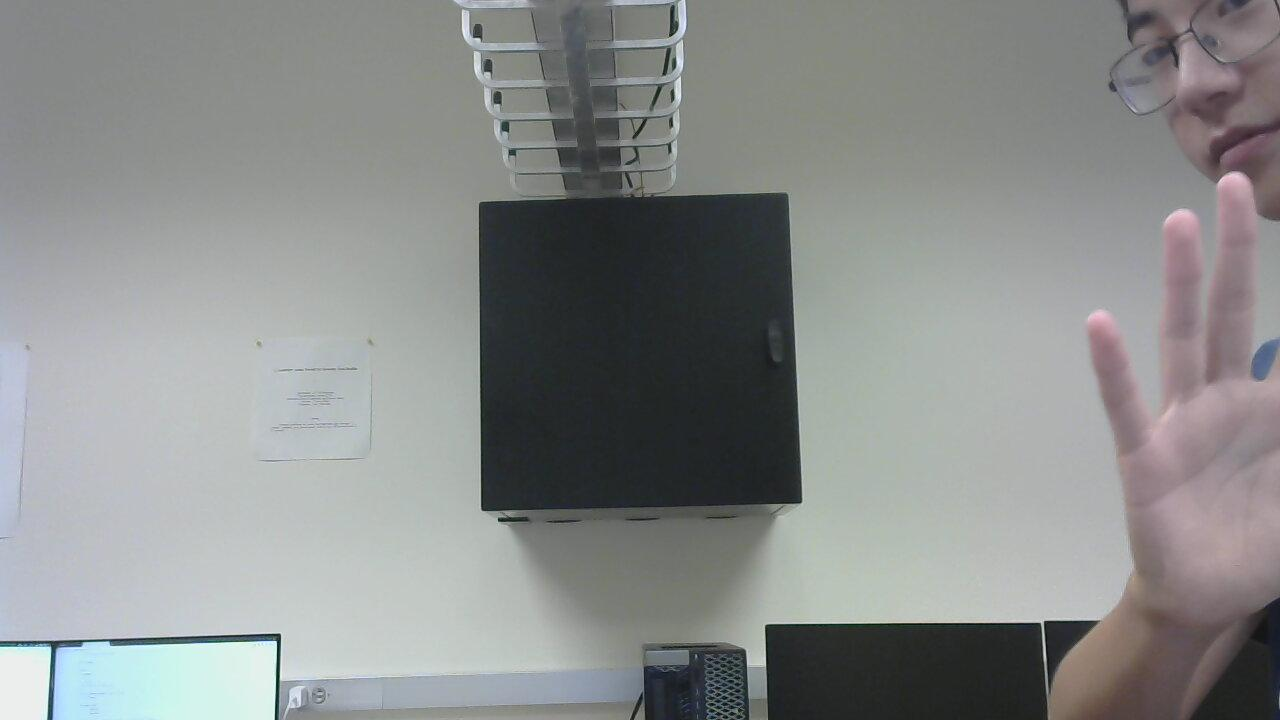hands: (1074, 151, 1280, 632)
